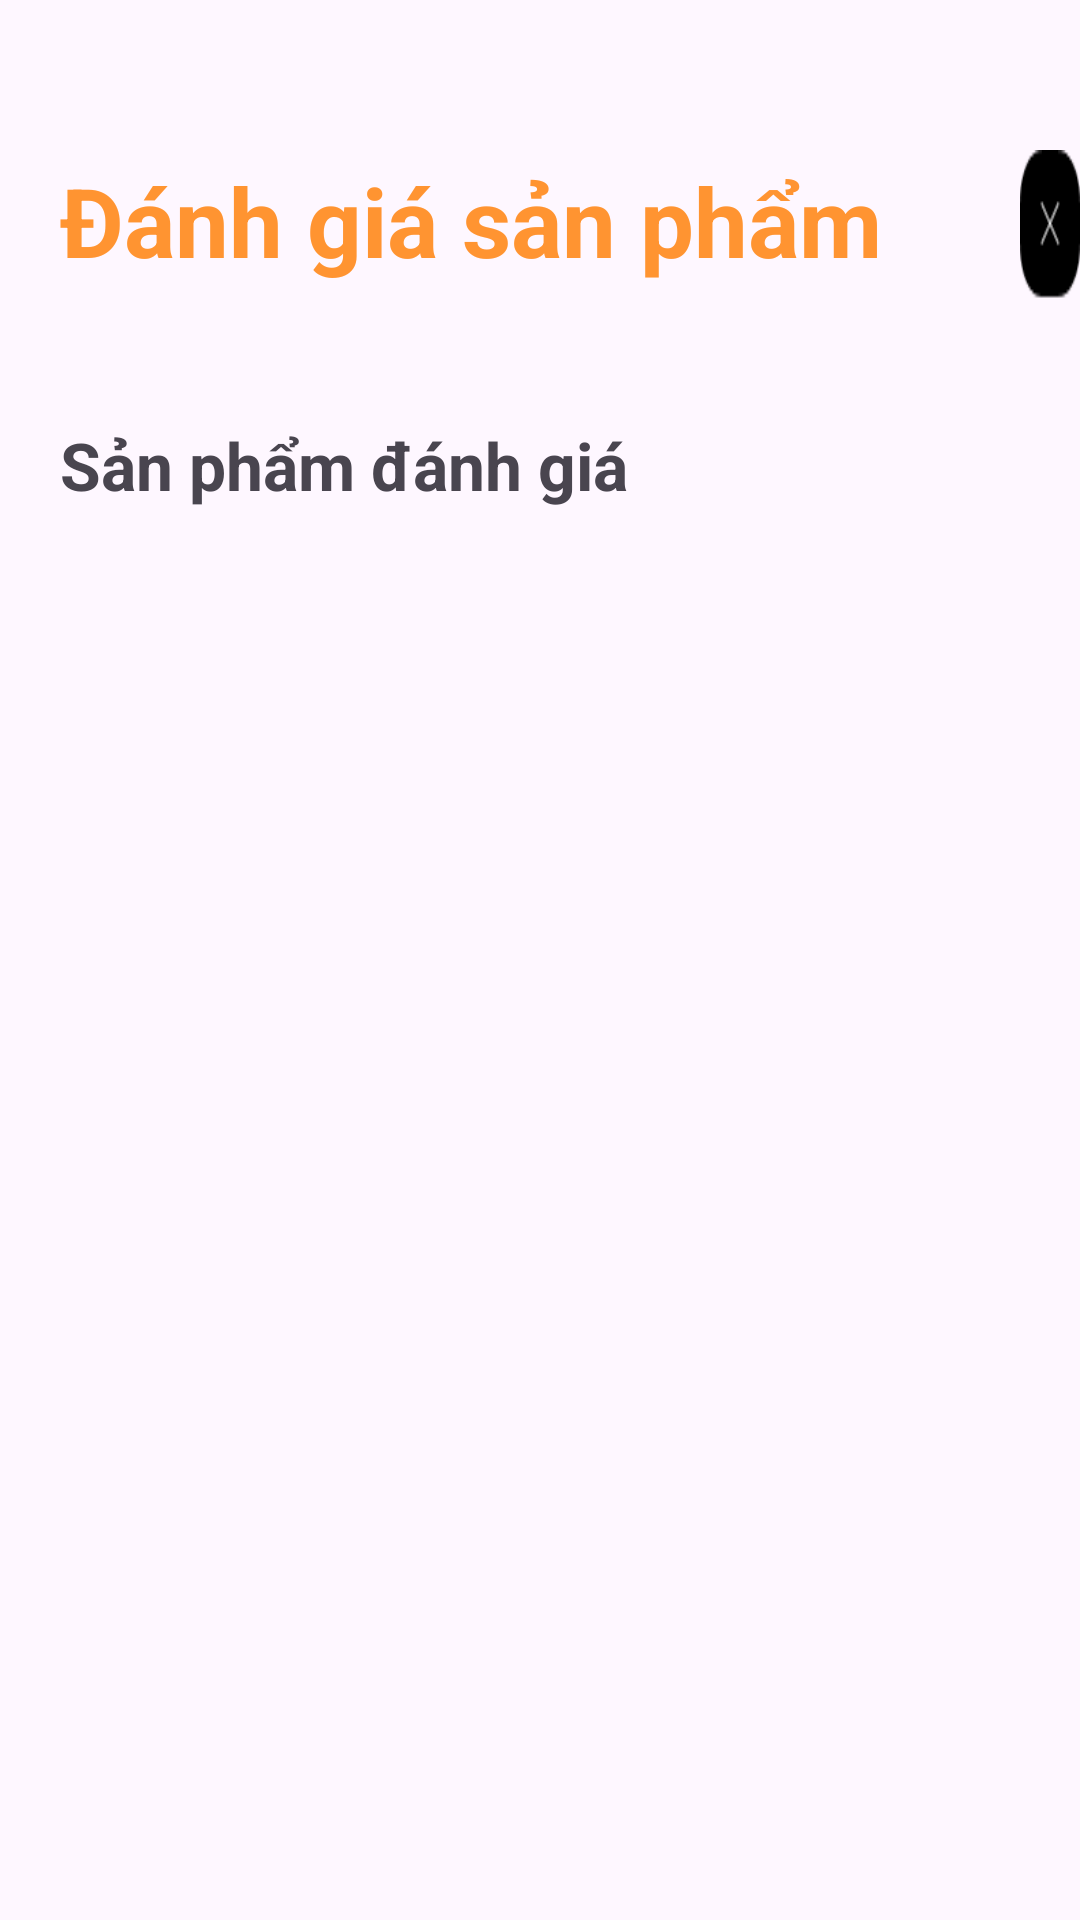

Screen size 1080w x 1920h. Icon name, then its center in pixels as (x,y):
close: (1050,224)
